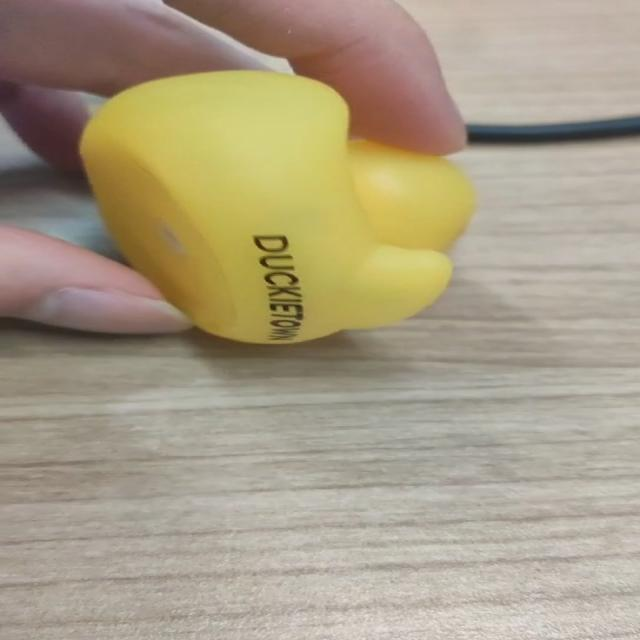rubber-duck: (80, 70, 472, 341)
